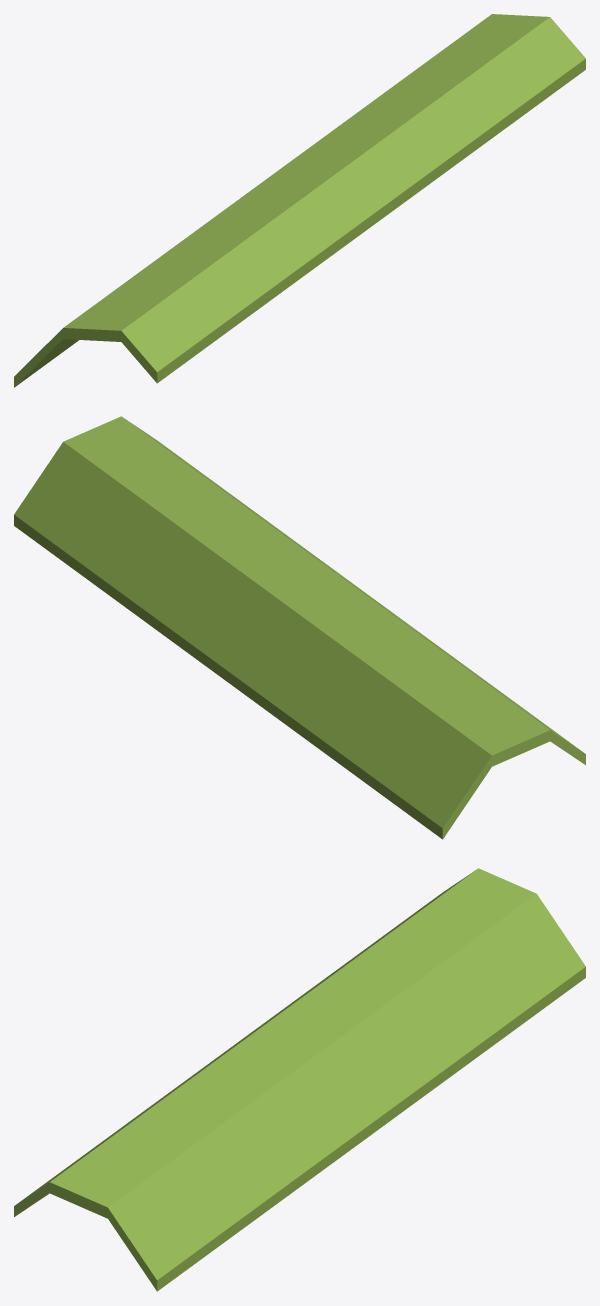
3 renders of one model, top to bottom at view 1: azimuth 90°, elevation 25°; view 2: azimuth 150°, elevation 25°; view 3: azimuth 270°, elevation 25°, orthographic.
Visible parts, largest first — view 1: 支流3_右岸折纸.001; view 2: 支流3_右岸折纸.001; view 3: 支流3_右岸折纸.001.
Boxes of the visible parts, x1,y1,x2,y2 form: 支流3_右岸折纸.001: (14,14,585,387); 支流3_右岸折纸.001: (14,416,585,839); 支流3_右岸折纸.001: (14,868,585,1291).
Size of the model in its own units: 0.7988 by 0.089 by 0.5536.
